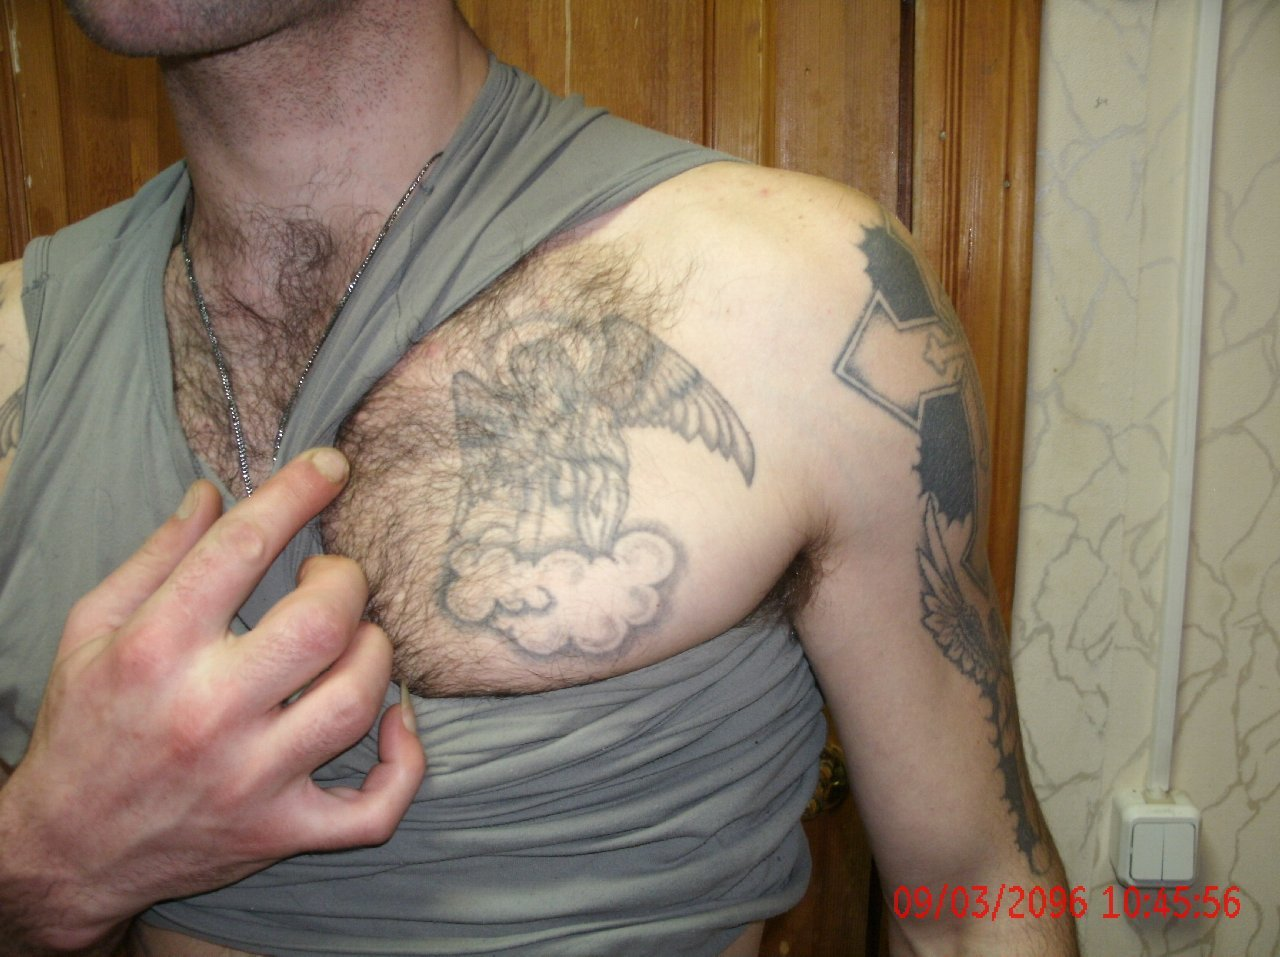tatu1_angel: (422, 321, 756, 571)
